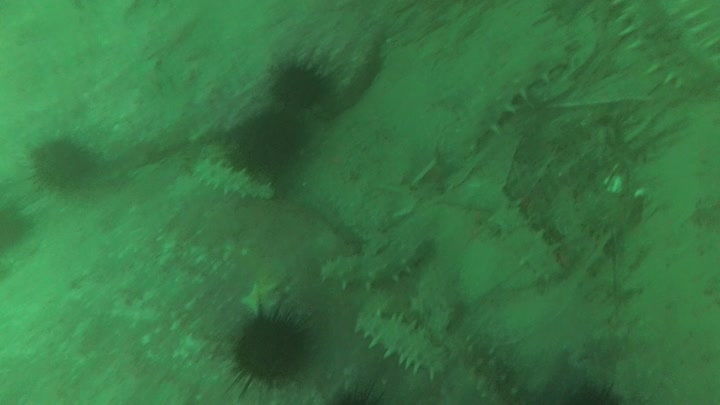echinus: (222, 299, 332, 398), (219, 105, 315, 182), (267, 56, 339, 118), (24, 138, 102, 194), (318, 378, 398, 405), (563, 381, 632, 405)
holothurian: (457, 45, 574, 152), (616, 1, 720, 95), (322, 219, 436, 292), (355, 310, 453, 380), (494, 202, 569, 286)
